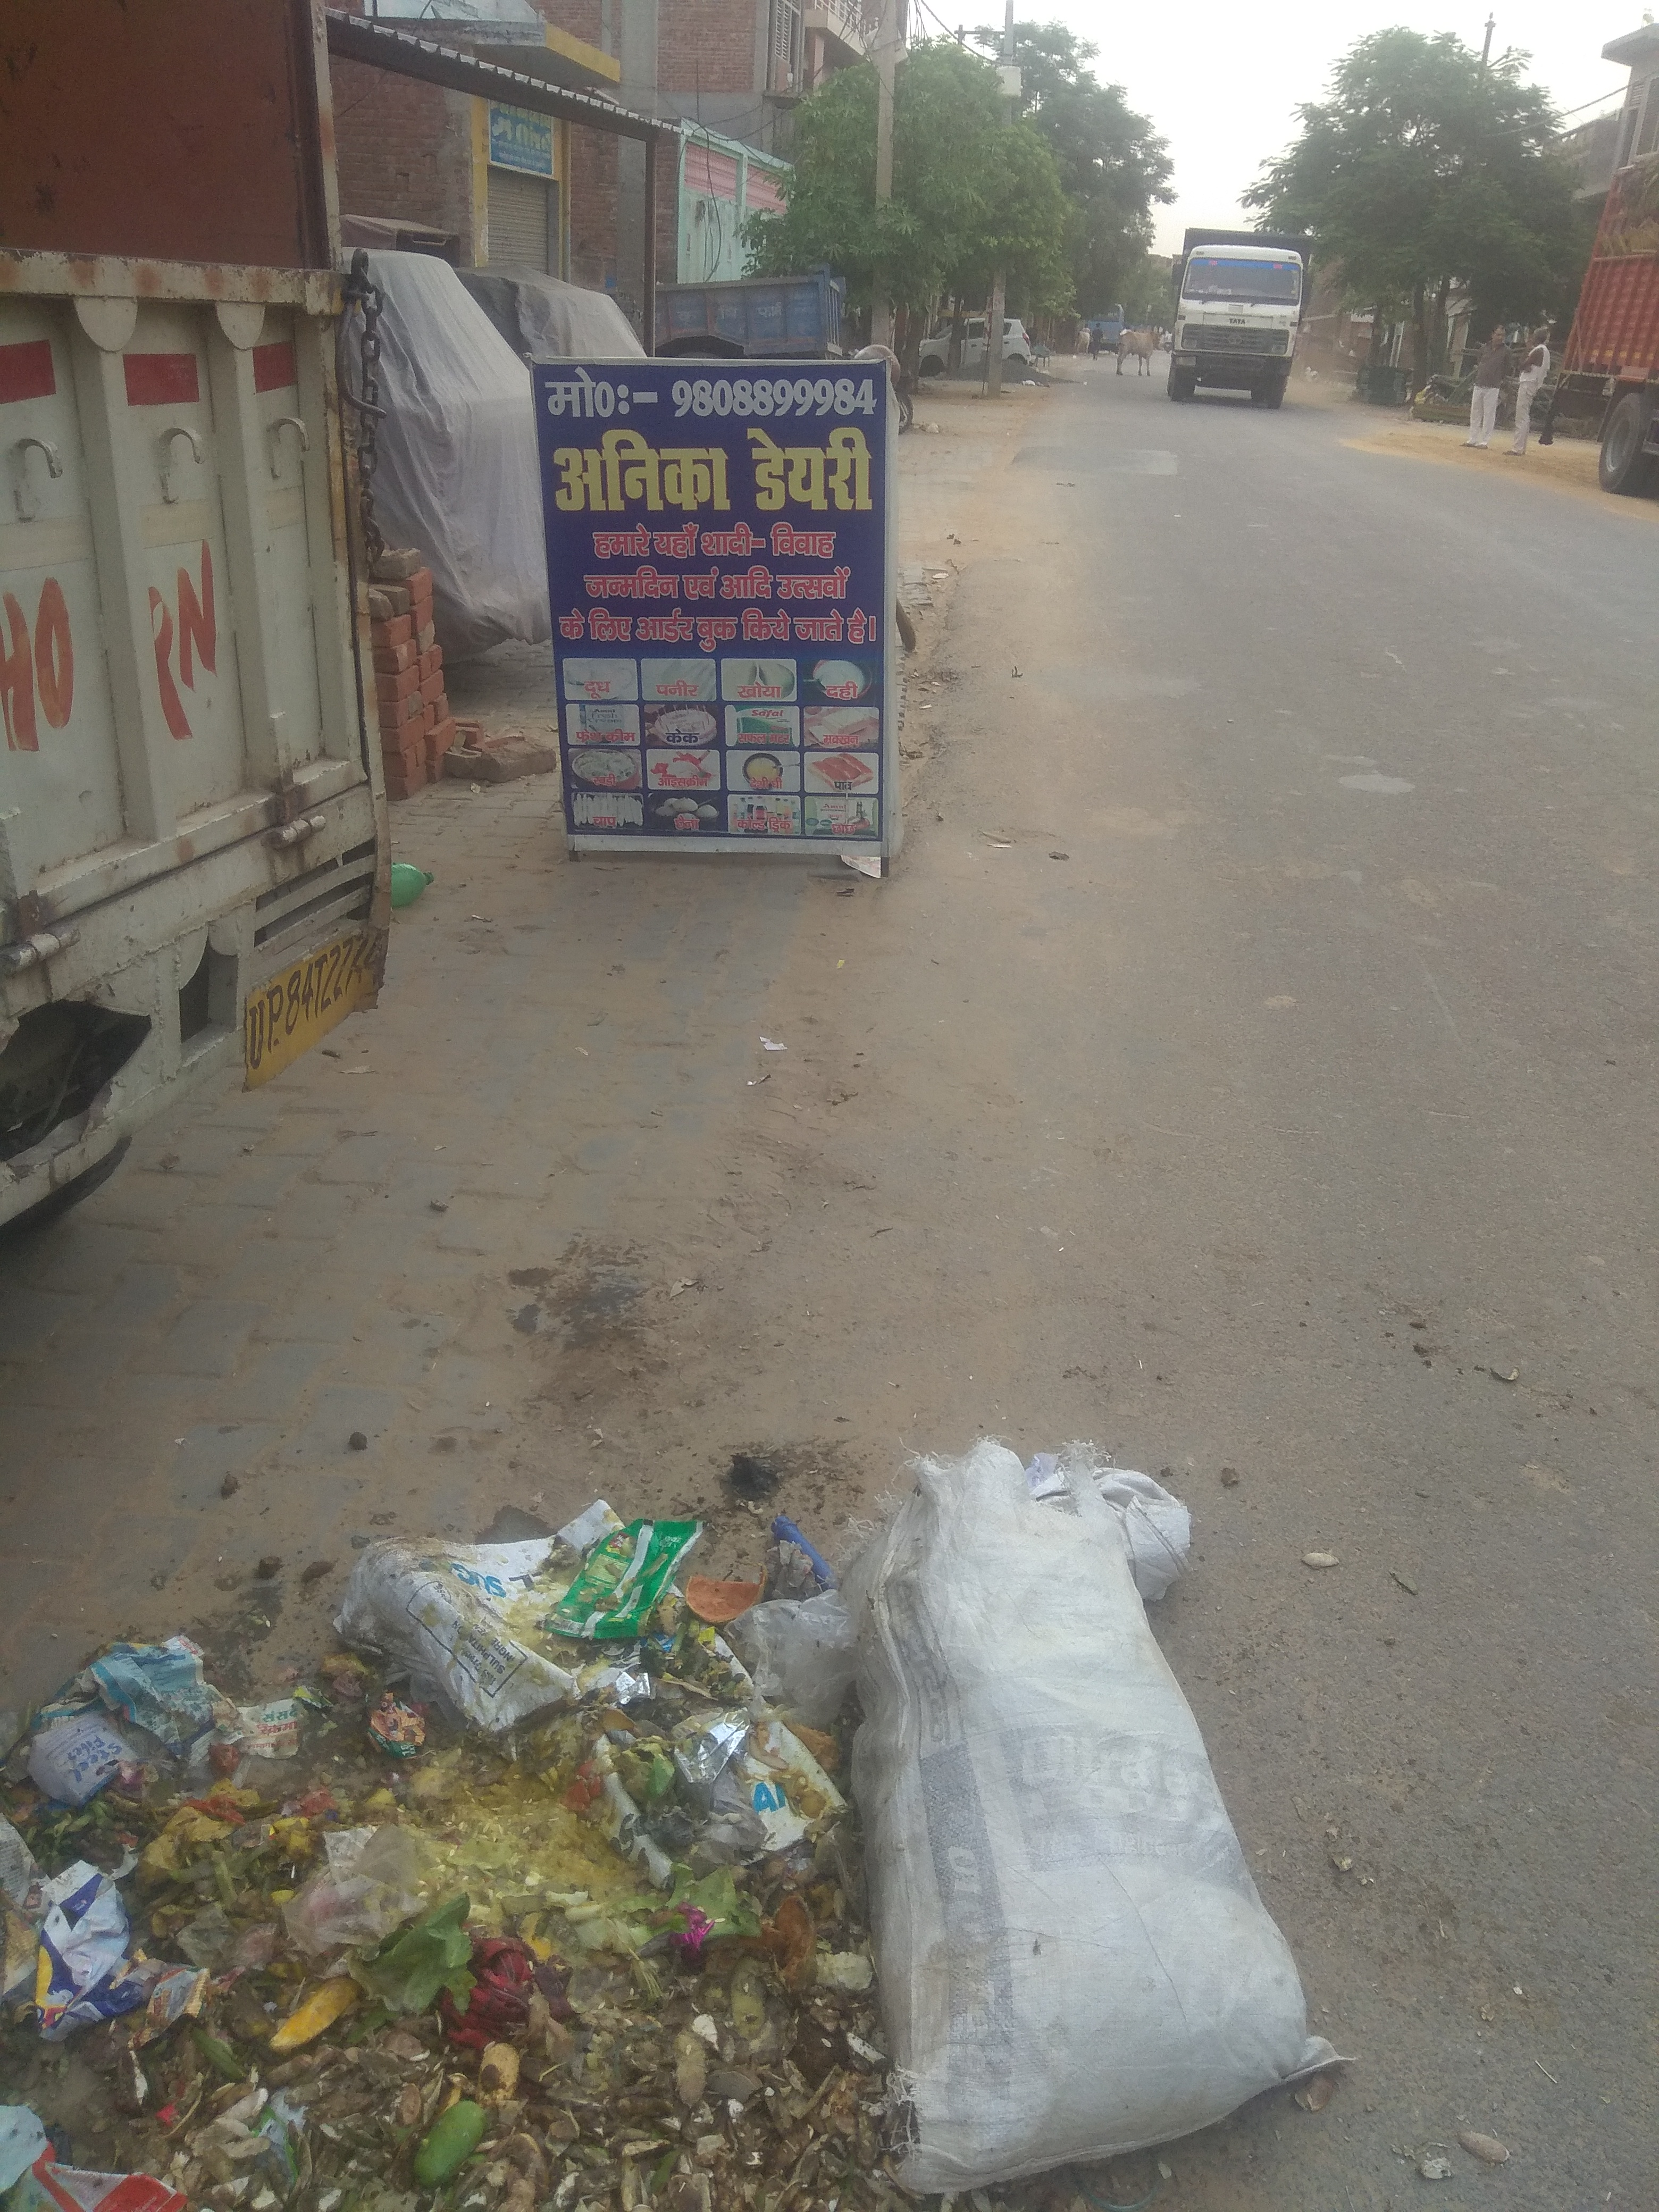text: (532, 331, 899, 900), (0, 529, 234, 787), (486, 99, 559, 178), (671, 296, 782, 334)
